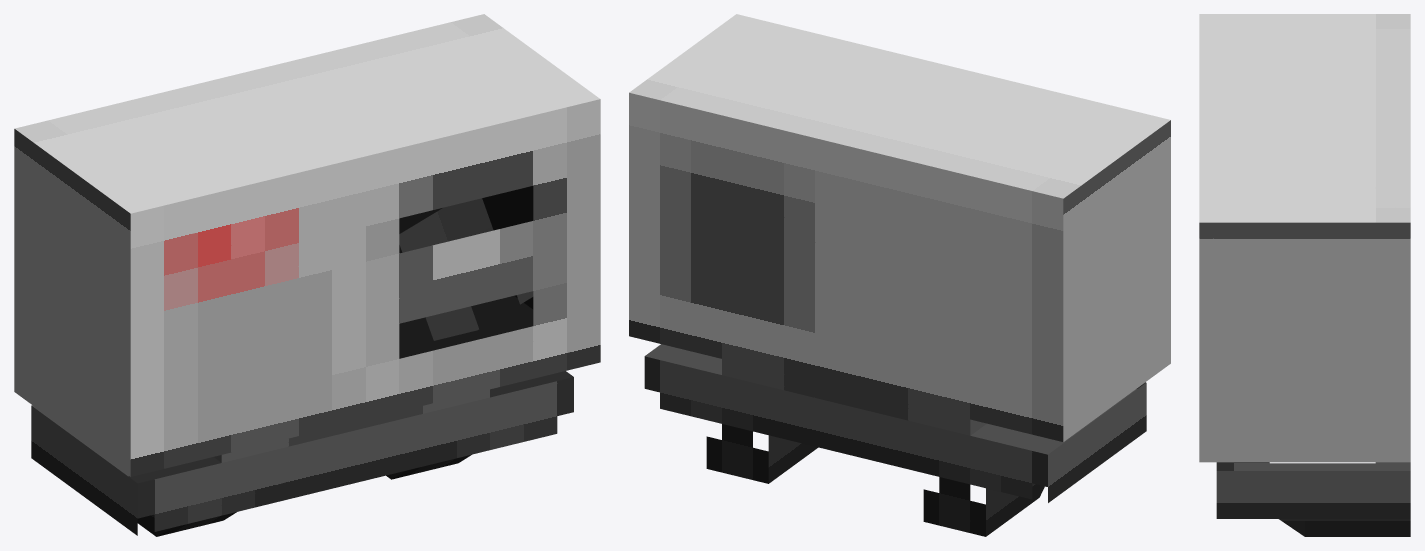
Rendered from Air_Conditioner-01.gltf.
The picture shows the model from 3 angles, left to right: view 1: azimuth 30°, elevation 25°; view 2: azimuth 150°, elevation 25°; view 3: azimuth 270°, elevation 25°; orthographic projection. The views are drawn at different scales.
Parts seen in each view (by area): view 1: Air_Conditioner-01, Air_Conditioner-01-Fan; view 2: Air_Conditioner-01; view 3: Air_Conditioner-01.
Boxes of the visible parts, x1,y1,x2,y2 form: Air_Conditioner-01: (14,14,600,536); Air_Conditioner-01-Fan: (399,198,533,340); Air_Conditioner-01: (629,14,1170,536); Air_Conditioner-01: (1199,14,1410,536).
Size of the model in its own units: 0.7 by 0.55 by 0.3.
1 material, 1 textured.
